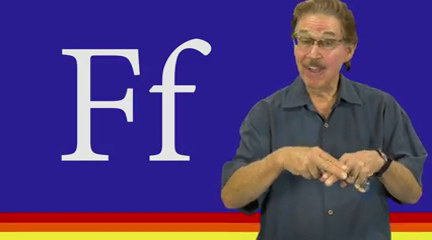F: (277, 142, 387, 195)
